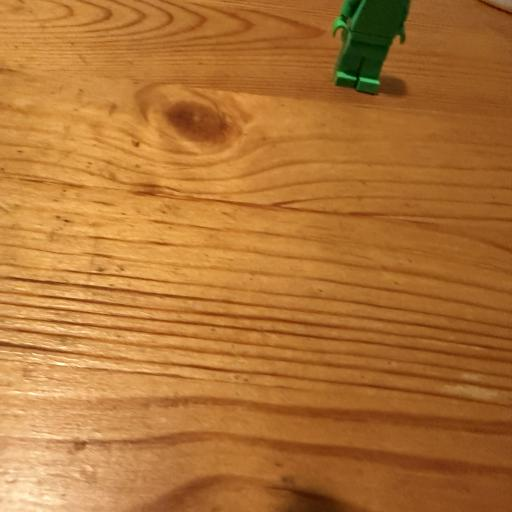Minifig: (333, 0, 410, 93)
